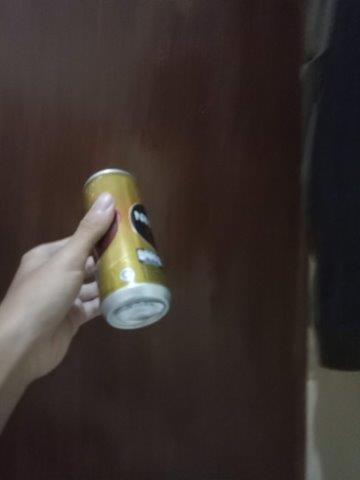kaleng: (82, 169, 169, 330)
